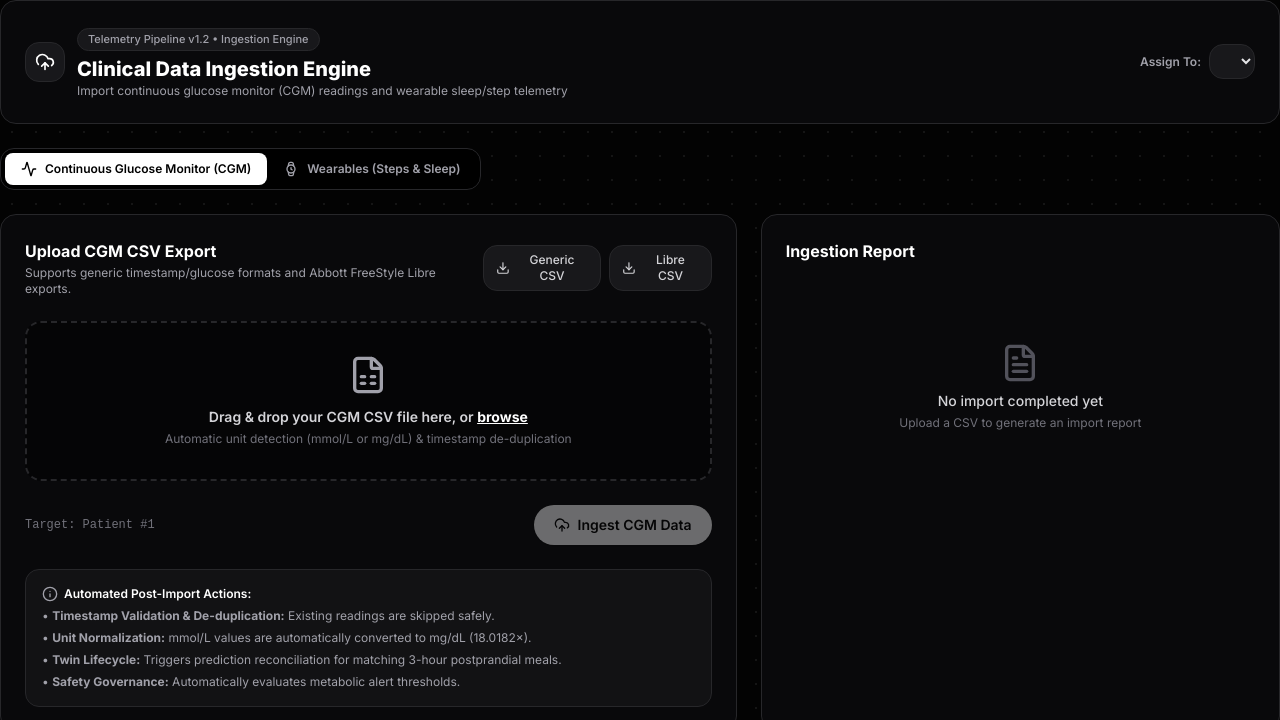
Test: Platform Glue: Messages, Import, and Reports UI › DataImportPage Component › allows switching to Wearables tab and imports wearable telemetry
Click the button "Wearables (Steps & Sleep)": (372, 168) [267,152,476,184]
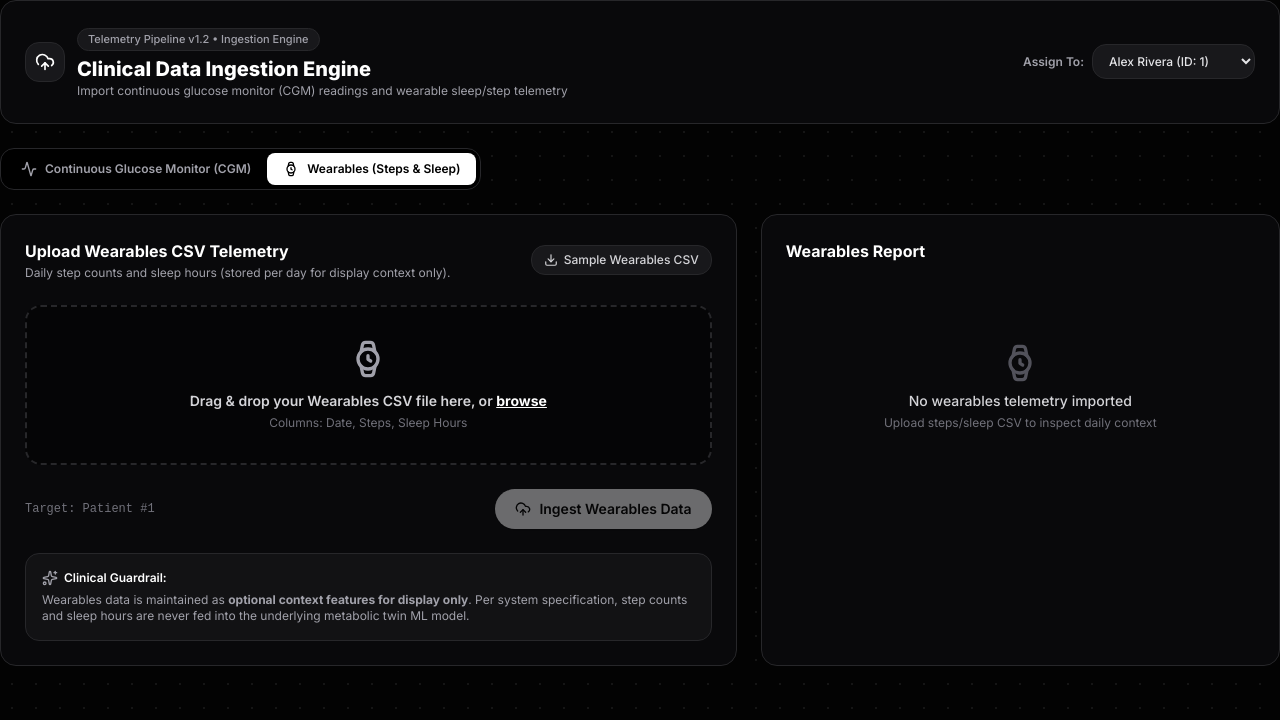
Result: the text "Drag & drop your Wearables CSV file here, or browse" is shown at [190,392,547,408]
Result: the text "Daily step counts and sleep hours (stored per day for display context only)" is shown at [25,264,450,280]
